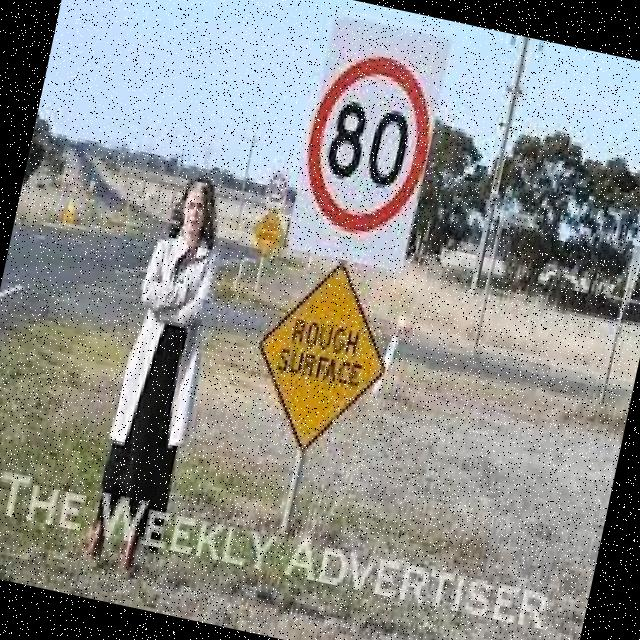speed_limit_80: (287, 34, 448, 252)
